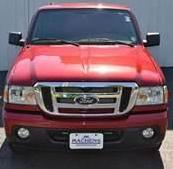front_view: (8, 76, 172, 155)
headlight: (122, 82, 168, 113)
